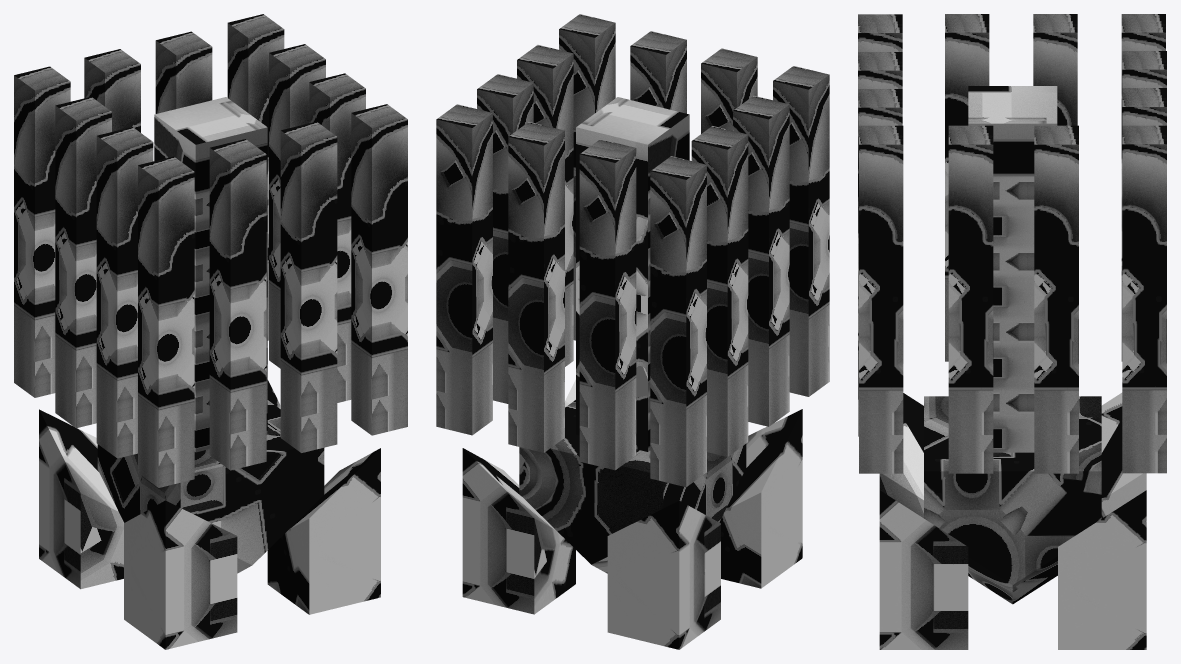
File: Flag_turn1.fbx
The picture shows the model from 3 angles, left to right: view 1: azimuth 30°, elevation 25°; view 2: azimuth 150°, elevation 25°; view 3: azimuth 270°, elevation 25°; orthographic projection. The views are drawn at different scales.
Parts seen in each view (by area): view 1: Difference1_002; view 2: Difference1_002; view 3: Difference1_002.
Part boxes in pixels (x1,y1,x2,y2): Difference1_002: (14,14,407,649); Difference1_002: (436,14,829,649); Difference1_002: (858,14,1166,649).
Size of the model in its own units: 692 by 1297 by 691.
